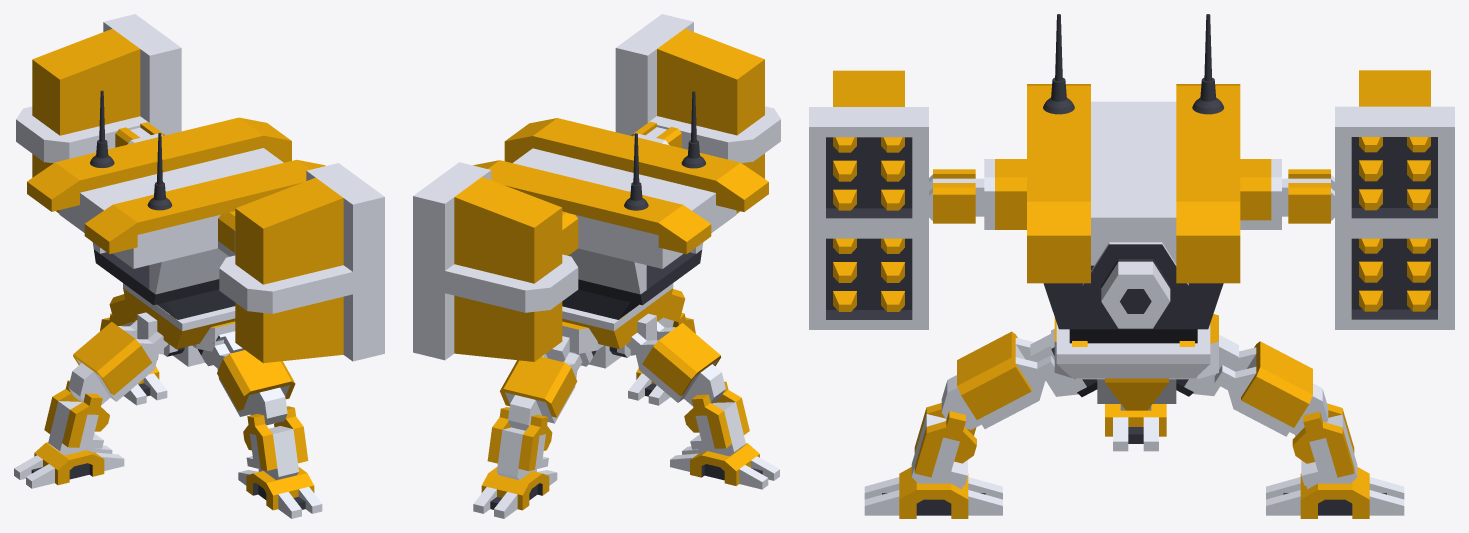
Rendered from Artillery_MechUpdated.fbx.
3 views of the same model, side by side, from view 1: azimuth 30°, elevation 25°; view 2: azimuth 150°, elevation 25°; view 3: azimuth 270°, elevation 25° (orthographic). The views are drawn at different scales.
Visible parts, largest first — view 1: node_id78 (×3), node_id29 (×2), node_id41 (×2), node_id33 (×2), node_id75 (×2), node_id55 (×2), node_id48 (×2), node_id68 (×2), node_id71 (×2), node_id20 (×2), node_id51 (×2), node_id11 (+9 smaller); view 2: node_id78 (×3), node_id41 (×2), node_id29 (×2), node_id37 (×2), node_id75 (×2), node_id65 (×2), node_id68 (×2), node_id58 (×2), node_id71 (×2), node_id20 (×2), node_id61 (×2), node_id11 (+9 smaller); view 3: node_id78 (×3), node_id41 (×3), node_id29 (×3), node_id37 (×3), node_id33 (×3), node_id55 (×2), node_id86 (×2), node_id65 (×2), node_id20, node_id61 (×2), node_id51 (×2), node_id48 (×2) (+11 smaller).
Part boxes in pixels (left/top/right/bottom): node_id78 (×3): left=27, top=117, right=325, bottom=319; node_id29 (×2): left=219, top=163, right=384, bottom=302; node_id41 (×2): left=16, top=14, right=181, bottom=153; node_id33 (×2): left=219, top=275, right=384, bottom=363; node_id75 (×2): left=68, top=320, right=168, bottom=405; node_id55 (×2): left=211, top=343, right=295, bottom=425; node_id48 (×2): left=243, top=406, right=308, bottom=480; node_id68 (×2): left=44, top=380, right=109, bottom=455; node_id71 (×2): left=14, top=442, right=124, bottom=488; node_id20 (×2): left=123, top=283, right=235, bottom=349; node_id51 (×2): left=238, top=466, right=322, bottom=518; node_id11: left=173, top=323, right=235, bottom=366; node_id78 (×3): left=473, top=118, right=768, bottom=319; node_id41 (×2): left=413, top=162, right=578, bottom=301; node_id29 (×2): left=615, top=14, right=780, bottom=153; node_id37 (×2): left=413, top=274, right=578, bottom=361; node_id75 (×2): left=626, top=321, right=725, bottom=405; node_id65 (×2): left=500, top=352, right=582, bottom=430; node_id68 (×2): left=684, top=381, right=749, bottom=456; node_id58 (×2): left=487, top=407, right=552, bottom=480; node_id71 (×2): left=670, top=443, right=779, bottom=489; node_id20 (×2): left=562, top=283, right=673, bottom=348; node_id61 (×2): left=473, top=467, right=557, bottom=518; node_id11: left=562, top=326, right=621, bottom=368; node_id78 (×3): left=1027, top=84, right=1240, bottom=343; node_id41 (×3): left=1335, top=70, right=1454, bottom=228; node_id29 (×3): left=809, top=70, right=928, bottom=228; node_id37 (×3): left=1335, top=228, right=1454, bottom=329; node_id33 (×3): left=809, top=228, right=928, bottom=329; node_id55 (×2): left=941, top=331, right=1058, bottom=429; node_id86 (×2): left=1082, top=242, right=1188, bottom=328; node_id65 (×2): left=1214, top=341, right=1328, bottom=436; node_id20: left=1056, top=323, right=1210, bottom=378; node_id61 (×2): left=1266, top=467, right=1404, bottom=518; node_id51 (×2): left=864, top=467, right=1002, bottom=518; node_id48 (×2): left=911, top=403, right=976, bottom=489.
Bounding box in the file's own units: 0.4428 × 0.512 × 0.6725.
